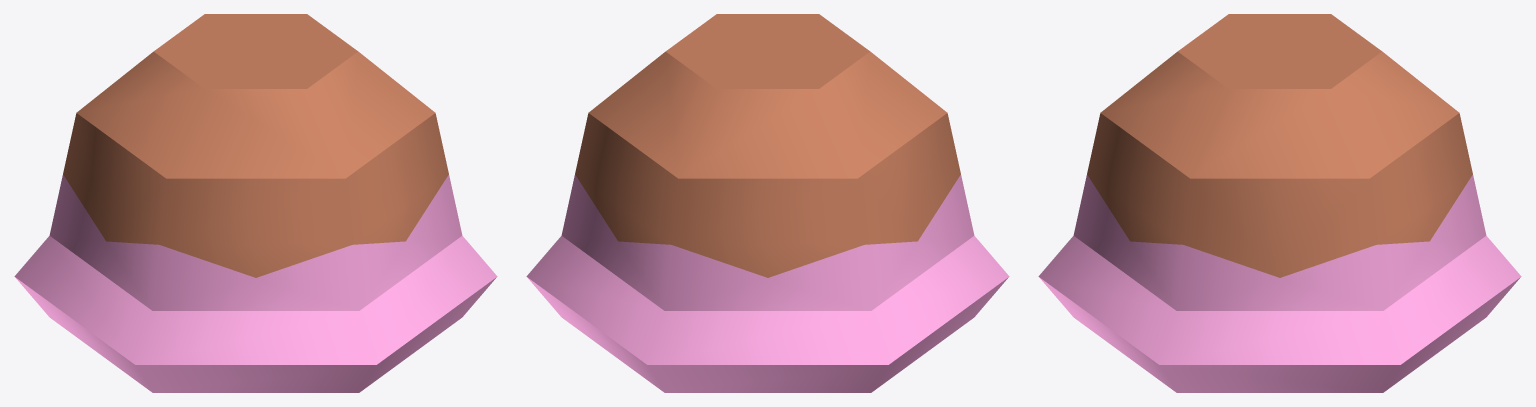
Rendered from iceCreamScoop.obj.
The picture shows the model from 3 angles, left to right: view 1: azimuth 30°, elevation 25°; view 2: azimuth 150°, elevation 25°; view 3: azimuth 270°, elevation 25°; orthographic projection.
Parts seen in each view (by area): view 1: iceCreamScoop; view 2: iceCreamScoop; view 3: iceCreamScoop.
Part boxes in pixels (left/top/right/bottom): iceCreamScoop: left=14, top=14, right=497, bottom=392; iceCreamScoop: left=526, top=14, right=1009, bottom=392; iceCreamScoop: left=1038, top=14, right=1521, bottom=392.
Bounding box in the file's own units: 0.2352 × 0.165 × 0.2716.
